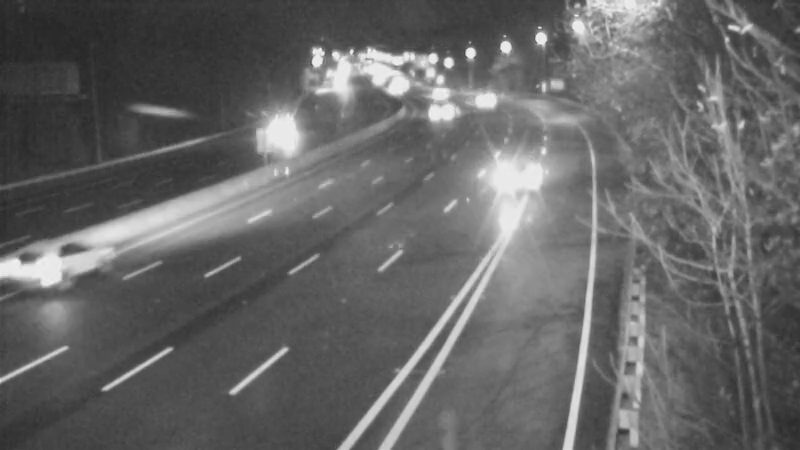vehicle: (476, 133, 556, 213), (1, 225, 77, 305), (416, 66, 466, 116), (454, 75, 504, 125), (415, 87, 465, 137), (258, 103, 308, 153)
